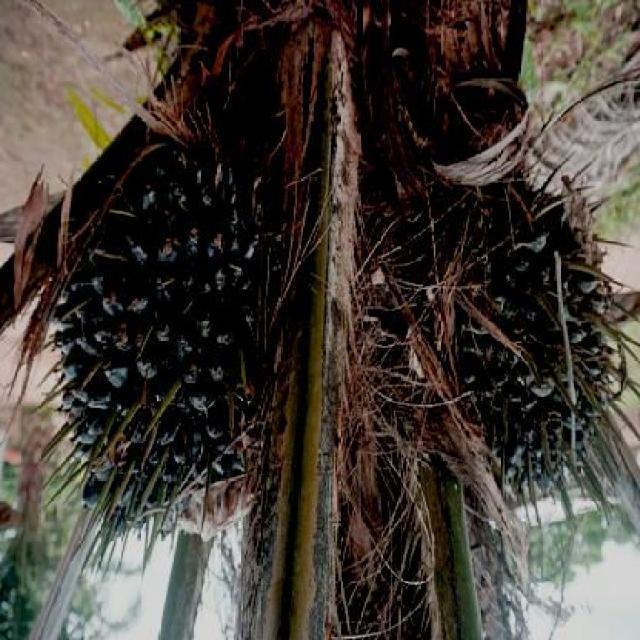palm-oil: (57, 112, 294, 552), (434, 150, 622, 503)
